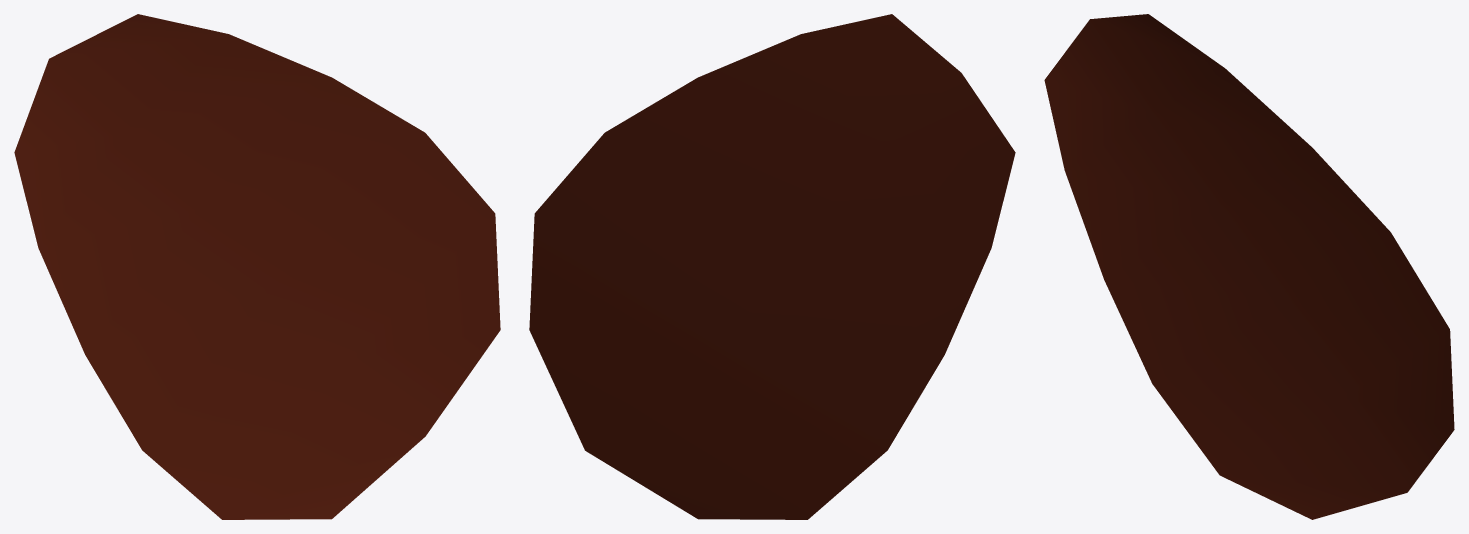
File: finch_feather_flight_tertiary_057.obj
The picture shows the model from 3 angles, left to right: view 1: azimuth 30°, elevation 25°; view 2: azimuth 150°, elevation 25°; view 3: azimuth 330°, elevation 25°; orthographic projection. The views are drawn at different scales.
Visible parts, largest first — view 1: feather_flight_tertiary_057; view 2: feather_flight_tertiary_057; view 3: feather_flight_tertiary_057.
Part boxes in pixels (x1=…): feather_flight_tertiary_057: x1=14, y1=14, x2=500, y2=519; feather_flight_tertiary_057: x1=529, y1=14, x2=1015, y2=519; feather_flight_tertiary_057: x1=1044, y1=14, x2=1454, y2=519.
Size of the model in its own units: 0.00444 by 0.00483 by 0.000153.
